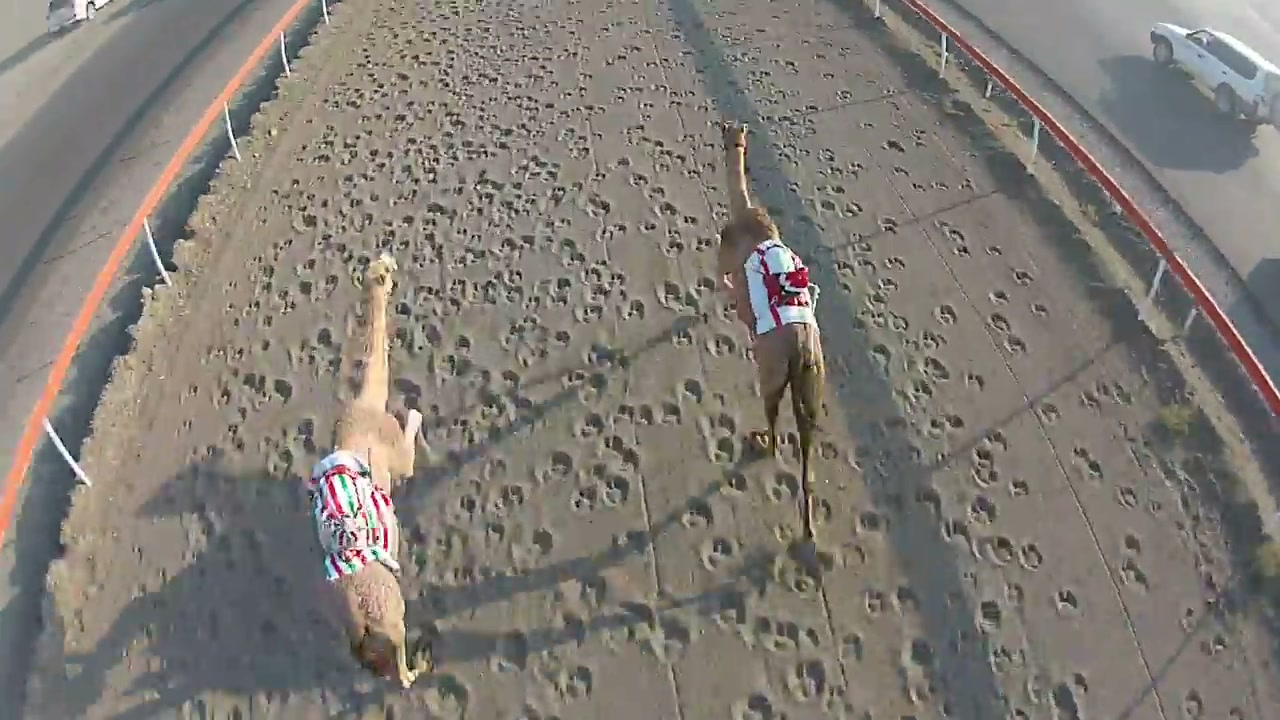animal_foot_print: (25, 1, 1228, 719), (622, 602, 695, 662), (570, 462, 632, 512), (740, 615, 822, 652), (539, 661, 595, 701), (699, 412, 741, 465), (422, 674, 471, 719), (786, 659, 834, 702), (510, 526, 555, 568), (733, 692, 784, 719), (699, 537, 737, 570), (681, 497, 713, 528)
